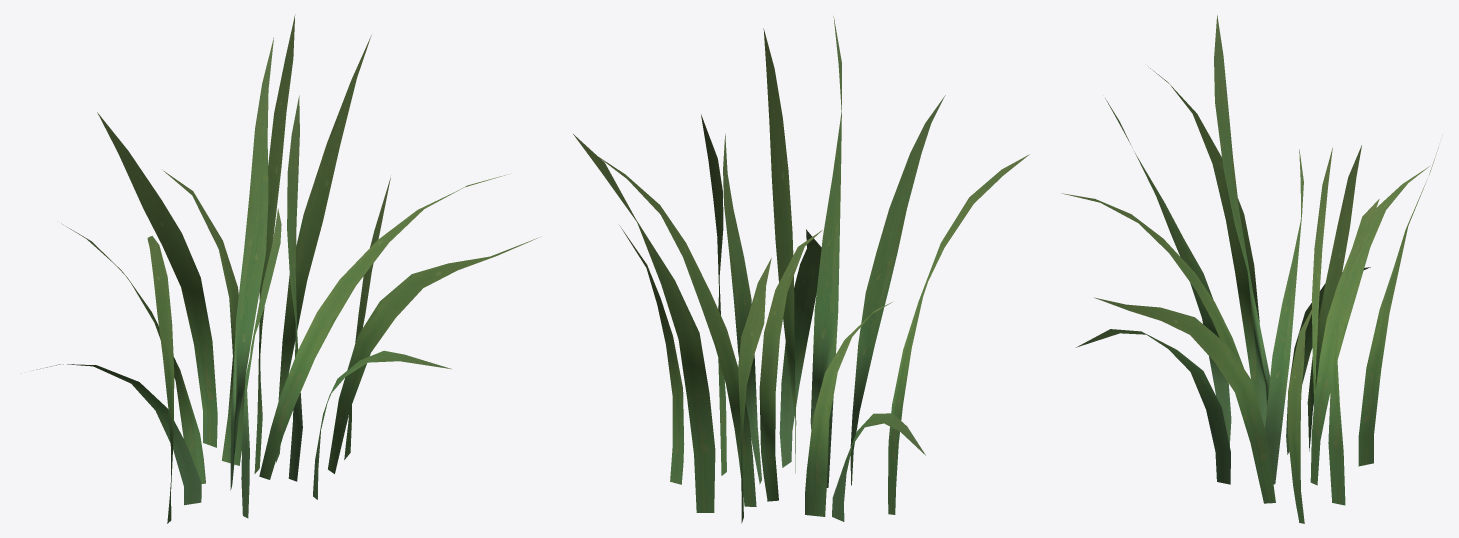
Rendered from Stages_MdLGrass02.fbx.
The picture shows the model from 3 angles, left to right: view 1: azimuth 30°, elevation 25°; view 2: azimuth 150°, elevation 25°; view 3: azimuth 270°, elevation 25°; orthographic projection. The views are drawn at different scales.
Visible parts, largest first — view 1: Stages_MdLGrass02_Vo; view 2: Stages_MdLGrass02_Vo; view 3: Stages_MdLGrass02_Vo.
Part boxes in pixels (left/top/right/bottom): Stages_MdLGrass02_Vo: left=36, top=14, right=541, bottom=523; Stages_MdLGrass02_Vo: left=573, top=16, right=1029, bottom=523; Stages_MdLGrass02_Vo: left=1062, top=15, right=1438, bottom=523.
Bounding box in the file's own units: 8.87 × 10.83 × 8.22.
Materials: 1 (1 with a texture image).
